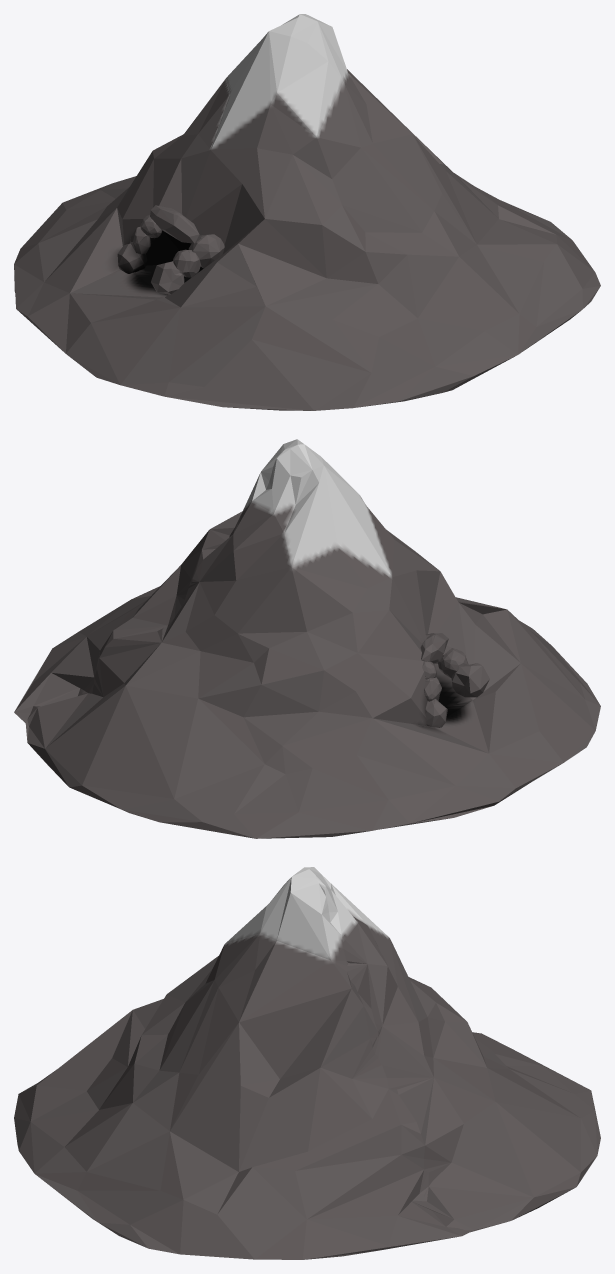
File: Mountain Cave 3.fbx
The picture shows the model from 3 angles, top to bottom: view 1: azimuth 30°, elevation 25°; view 2: azimuth 150°, elevation 25°; view 3: azimuth 270°, elevation 25°; orthographic projection.
Visible parts, largest first — view 1: Mountain_Cave_3; view 2: Mountain_Cave_3; view 3: Mountain_Cave_3.
Part boxes in pixels (<box>): Mountain_Cave_3: <box>14,14,600,410</box>; Mountain_Cave_3: <box>14,439,600,838</box>; Mountain_Cave_3: <box>14,867,600,1259</box>.
Size of the model in its own units: 91.22 by 48.33 by 92.25.
1 material, 1 textured.
